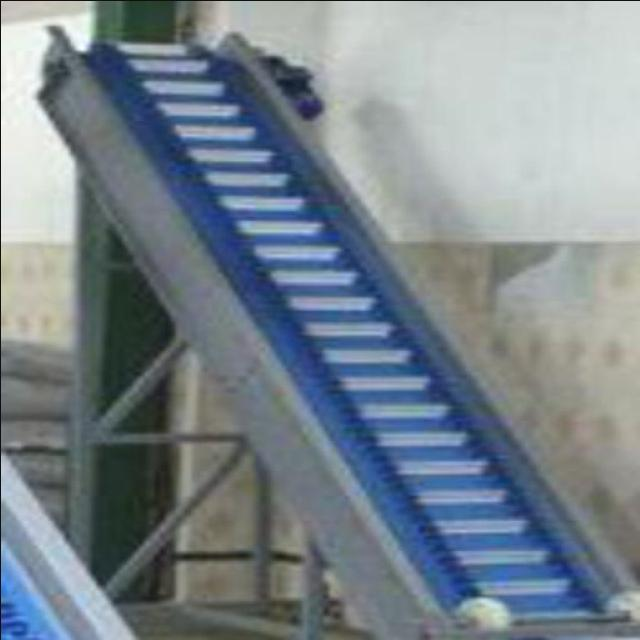conveyor: (91, 41, 640, 617)
